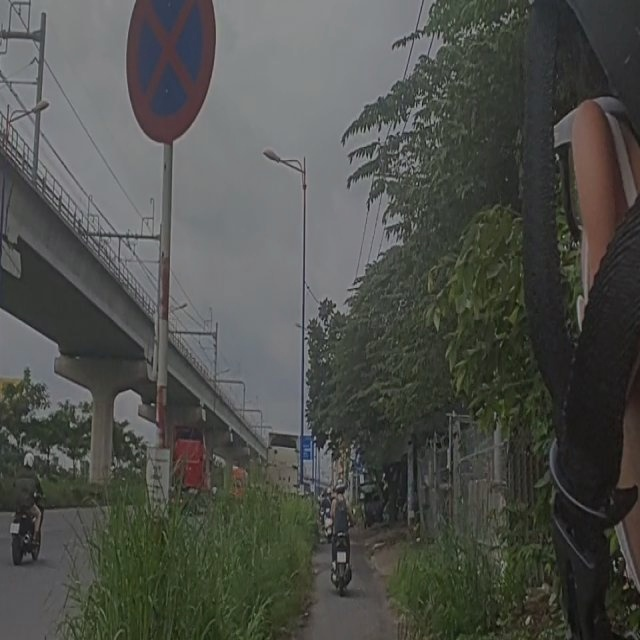I.409: (356, 450, 366, 470)
P.130: (114, 1, 224, 147)
